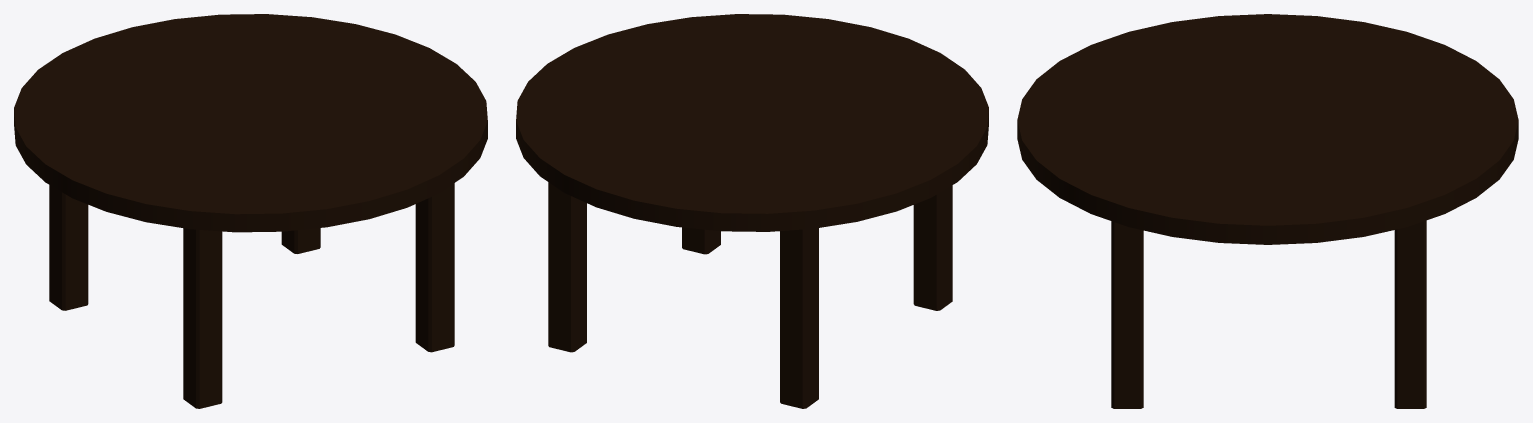
The model's file is round table .fbx.
3 views of the same model, side by side, from view 1: azimuth 30°, elevation 25°; view 2: azimuth 150°, elevation 25°; view 3: azimuth 270°, elevation 25° (orthographic). The views are drawn at different scales.
Parts seen in each view (by area): view 1: Round_Tabòle; view 2: Round_Tabòle; view 3: Round_Tabòle.
Part boxes in pixels (<box>): Round_Tabòle: <box>14,14,487,408</box>; Round_Tabòle: <box>516,14,988,408</box>; Round_Tabòle: <box>1017,14,1518,408</box>.
Size of the model in its own units: 318 by 155 by 318.
